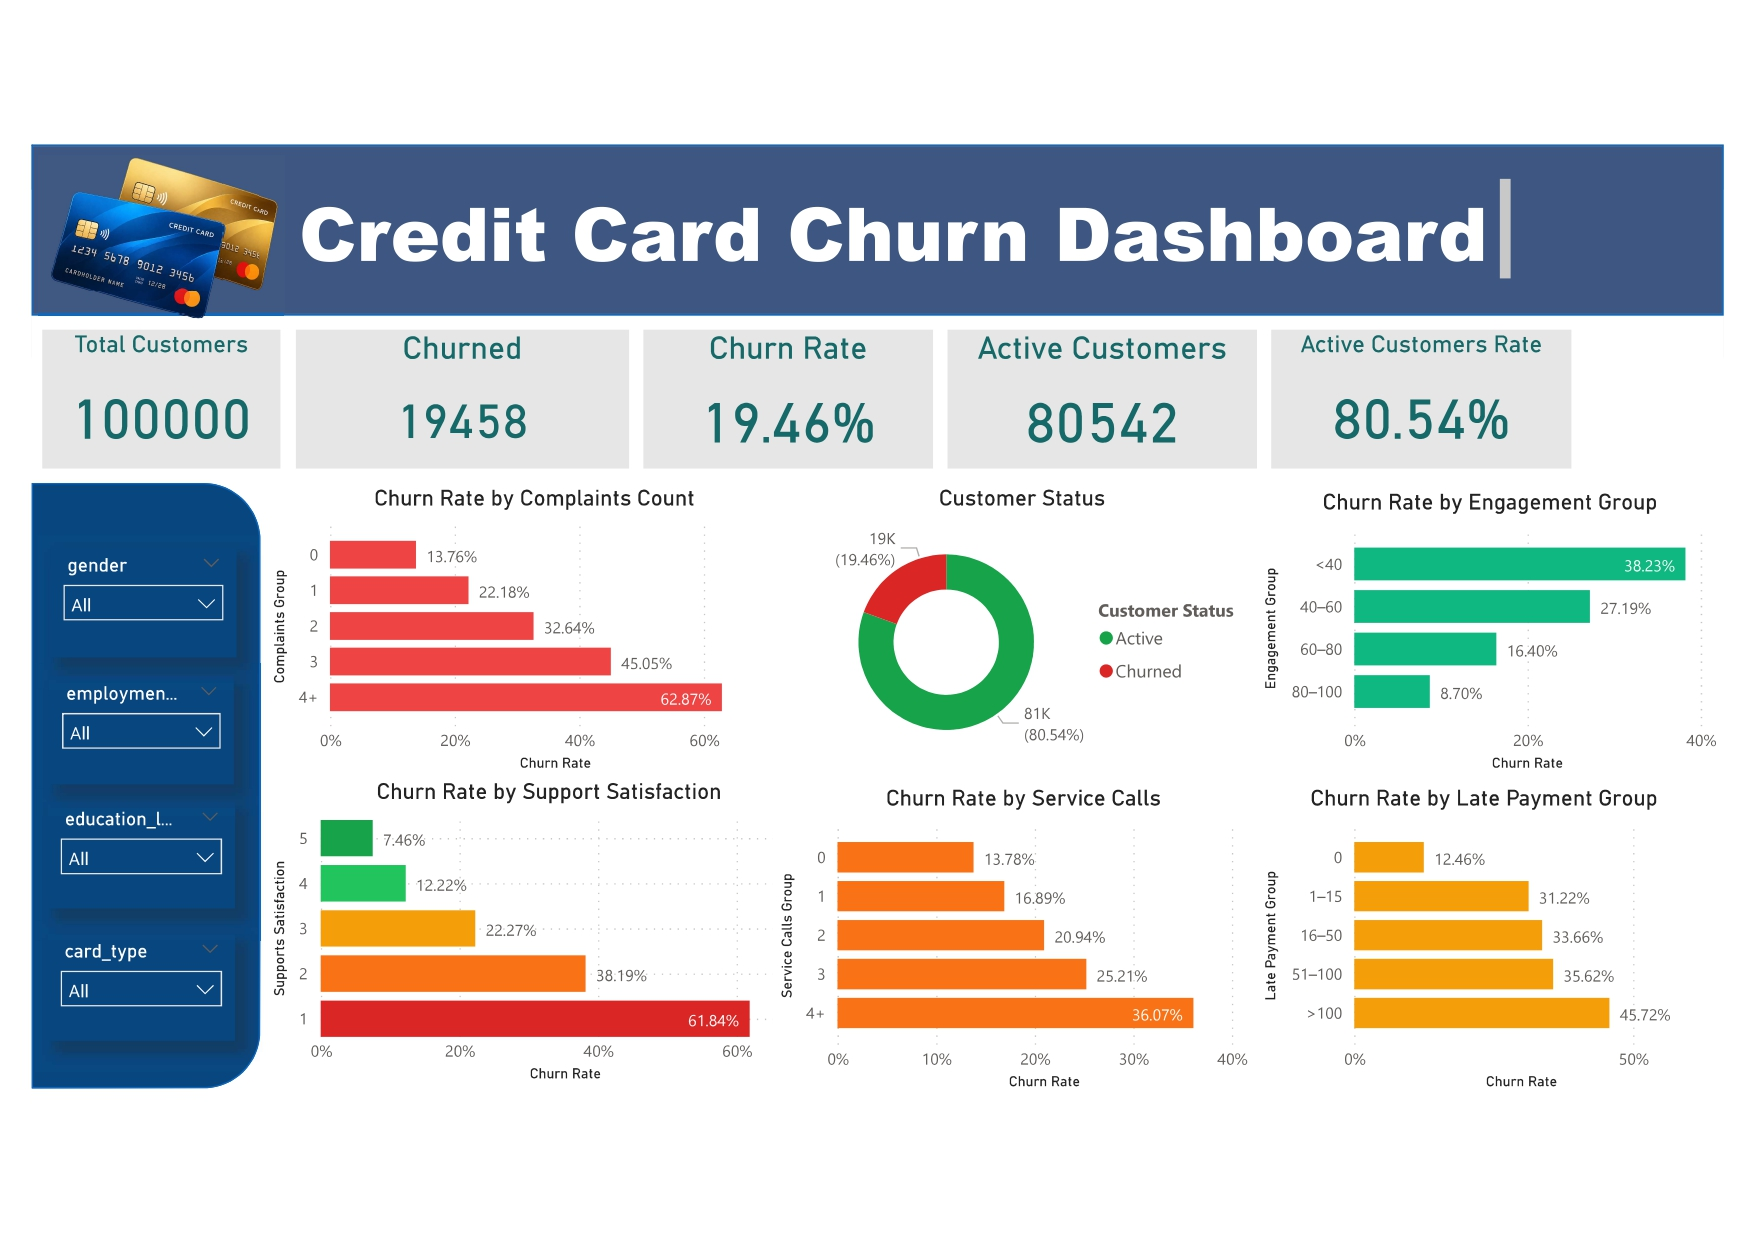

This screenshot's page, from the dashboard's own definition file:
{"tool":"powerbi","page":{"name":"Page 1","canvas":[1280,720],"ordinal":0},"visuals":[{"type":"shape","box":[0,256.2,172.5,457.5],"z":0},{"type":"shape","box":[0,0,1280.3,129],"z":1000},{"type":"textbox","box":[188,20.6,935.9,87.8],"z":2000},{"type":"card","title":"Total Customers","fields":{"Values":["customer_churn_cleaned.Total Customers"]},"box":[8.3,140,180,105],"z":3000},{"type":"card","title":"Churned","fields":{"Values":["Sum(customer_churn_cleaned.churned)"]},"box":[200,140,251.7,105],"z":4000},{"type":"card","title":"Churn Rate","fields":{"Values":["customer_churn_cleaned.Churn Rate"]},"box":[463.3,140,218.3,105],"z":5000},{"type":"card","title":"Active Customers","fields":{"Values":["customer_churn_cleaned.Active Customers"]},"box":[693.3,140,233.3,105],"z":6000},{"type":"card","title":"Active Customers Rate","fields":{"Values":["customer_churn_cleaned.Active Customer Rate"]},"box":[938.3,140,226.7,105],"z":7000},{"type":"slicer","fields":{"Values":["customer_churn_cleaned.gender"]},"box":[13.6,305.5,141.8,82.7],"z":8000},{"type":"slicer","fields":{"Values":["customer_churn_cleaned.employment_status"]},"box":[13,402.3,139.9,82.2],"z":9000},{"type":"slicer","fields":{"Values":["customer_churn_cleaned.education_level"]},"box":[11.5,497.4,142.7,80.7],"z":10000},{"type":"image","box":[0,0,196.2,140],"z":11000},{"type":"donutChart","title":"Customer Status ","fields":{"Category":["customer_churn_cleaned.Customer Status"],"Y":["customer_churn_cleaned.Total Customers"]},"box":[572.4,256.6,354.7,220.6],"z":12000},{"type":"clusteredBarChart","title":"Churn Rate by Complaints Count","fields":{"Category":["customer_churn_cleaned.Complaints Group"],"Y":["customer_churn_cleaned.Churn Rate"]},"box":[177.3,256.6,406.6,222],"z":13000},{"type":"clusteredBarChart","title":"Churn Rate by Support Satisfaction","fields":{"Category":["customer_churn_cleaned.support_satisfaction"],"Y":["customer_churn_cleaned.Churn Rate"]},"box":[177.3,478.7,428.2,235],"z":14000},{"type":"clusteredBarChart","title":"Churn Rate by Service Calls ","fields":{"Category":["customer_churn_cleaned.Service Calls Group"],"Y":["customer_churn_cleaned.Churn Rate"]},"box":[561.4,484.3,378.6,235.7],"z":15000},{"type":"barChart","fields":{"Category":["customer_churn_cleaned.Engagement Group"],"Y":["customer_churn_cleaned.Churn Rate"]},"box":[927.1,259.5,353.2,219.1],"z":16000},{"type":"barChart","fields":{"Category":["customer_churn_cleaned.Late Payment Group"],"Y":["customer_churn_cleaned.Churn Rate"]},"box":[927.1,484.3,344.3,235.7],"z":17000},{"type":"slicer","fields":{"Values":["customer_churn_cleaned.card_type"]},"box":[11.5,596.9,142.7,80.7],"z":17001}]}

Visuals, with their boxes in screenshot pixels (x1, y1, x2, y2):
shape: {"left": 23, "top": 484, "right": 256, "bottom": 1102}
shape: {"left": 23, "top": 137, "right": 1754, "bottom": 312}
textbox: {"left": 277, "top": 165, "right": 1543, "bottom": 284}
"Total Customers" card: {"left": 34, "top": 326, "right": 277, "bottom": 468}
"Churned" card: {"left": 293, "top": 326, "right": 634, "bottom": 468}
"Churn Rate" card: {"left": 649, "top": 326, "right": 944, "bottom": 468}
"Active Customers" card: {"left": 960, "top": 326, "right": 1276, "bottom": 468}
"Active Customers Rate" card: {"left": 1292, "top": 326, "right": 1598, "bottom": 468}
slicer - customer_churn_cleaned.gender: {"left": 41, "top": 550, "right": 233, "bottom": 662}
slicer - customer_churn_cleaned.employment_status: {"left": 40, "top": 681, "right": 230, "bottom": 792}
slicer - customer_churn_cleaned.education_level: {"left": 38, "top": 810, "right": 231, "bottom": 919}
image: {"left": 23, "top": 137, "right": 288, "bottom": 326}
"Customer Status " donutChart: {"left": 797, "top": 484, "right": 1276, "bottom": 782}
"Churn Rate by Complaints Count" clusteredBarChart: {"left": 263, "top": 484, "right": 812, "bottom": 784}
"Churn Rate by Support Satisfaction" clusteredBarChart: {"left": 263, "top": 784, "right": 842, "bottom": 1102}
"Churn Rate by Service Calls " clusteredBarChart: {"left": 782, "top": 792, "right": 1294, "bottom": 1111}
barChart - customer_churn_cleaned.Engagement Group x customer_churn_cleaned.Churn Rate: {"left": 1276, "top": 488, "right": 1754, "bottom": 784}
barChart - customer_churn_cleaned.Late Payment Group x customer_churn_cleaned.Churn Rate: {"left": 1276, "top": 792, "right": 1742, "bottom": 1111}
slicer - customer_churn_cleaned.card_type: {"left": 38, "top": 944, "right": 231, "bottom": 1053}
